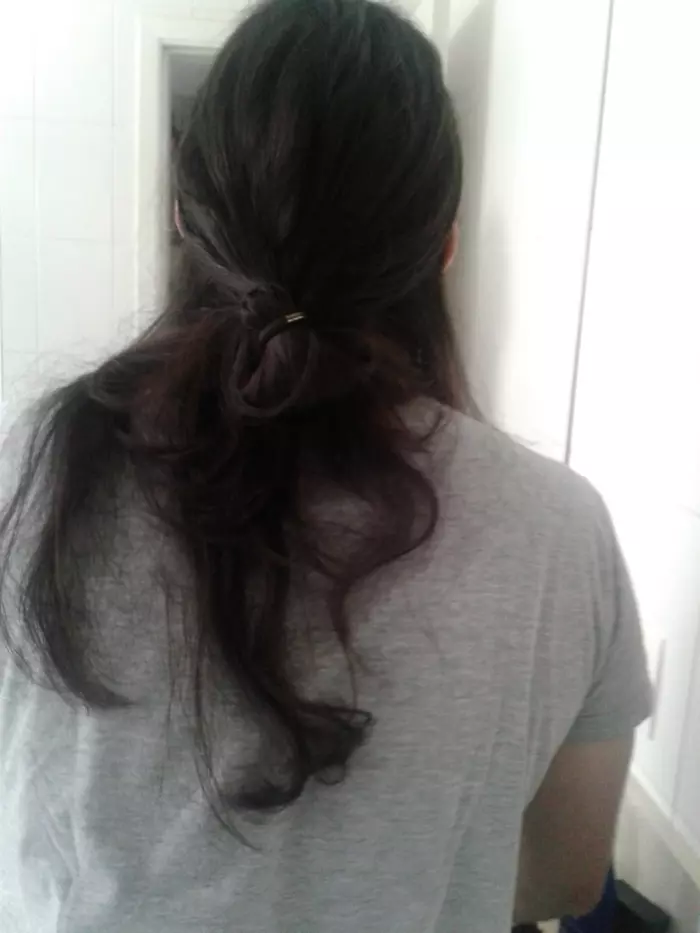Humano: (51, 1, 664, 933)
